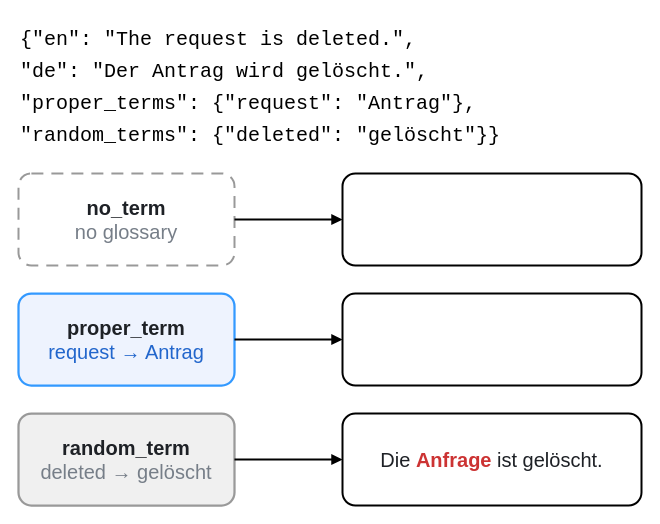
Some shapes in this 660 by 524 pixel diagram are drawn without their labels. Each missing label, with the centre of its shape:
Der Antrag wird gelöscht.: (491,339)
Die Anfrage wird gelöscht.: (491,219)
